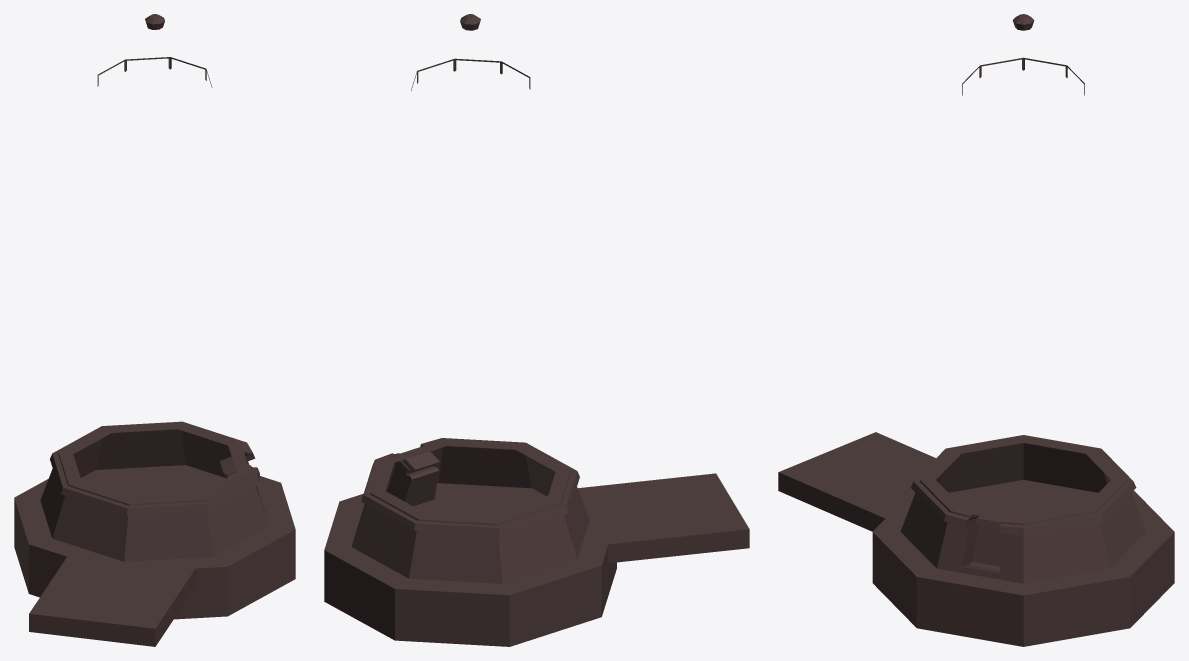
The model's file is Stone.obj.
3 views of the same model, side by side, from view 1: azimuth 30°, elevation 25°; view 2: azimuth 150°, elevation 25°; view 3: azimuth 270°, elevation 25° (orthographic). The views are drawn at different scales.
Visible parts, largest first — view 1: Stone; view 2: Stone; view 3: Stone.
Part boxes in pixels (left/top/right/bottom): Stone: left=14, top=14, right=295, bottom=646; Stone: left=324, top=14, right=749, bottom=646; Stone: left=778, top=14, right=1174, bottom=646.
Size of the model in its own units: 13.65 by 22.09 by 13.98.
1 material, 1 textured.
